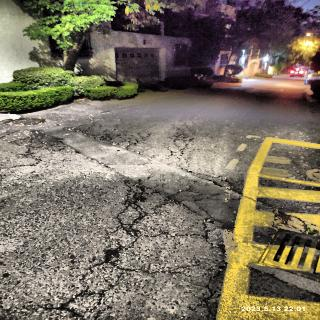alligator-crack: (117, 180, 150, 245)
crack: (204, 266, 220, 316), (112, 265, 184, 276), (222, 228, 238, 270), (151, 230, 209, 241), (43, 304, 83, 318), (208, 177, 233, 192), (13, 159, 42, 169)
